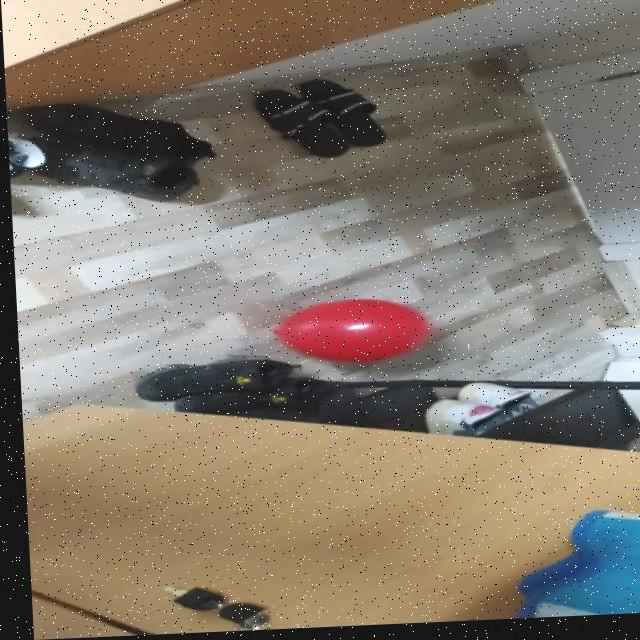balloon: (268, 297, 441, 368)
